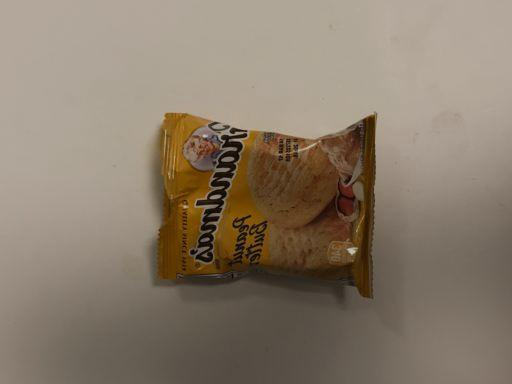trash: (157, 113, 377, 299)
